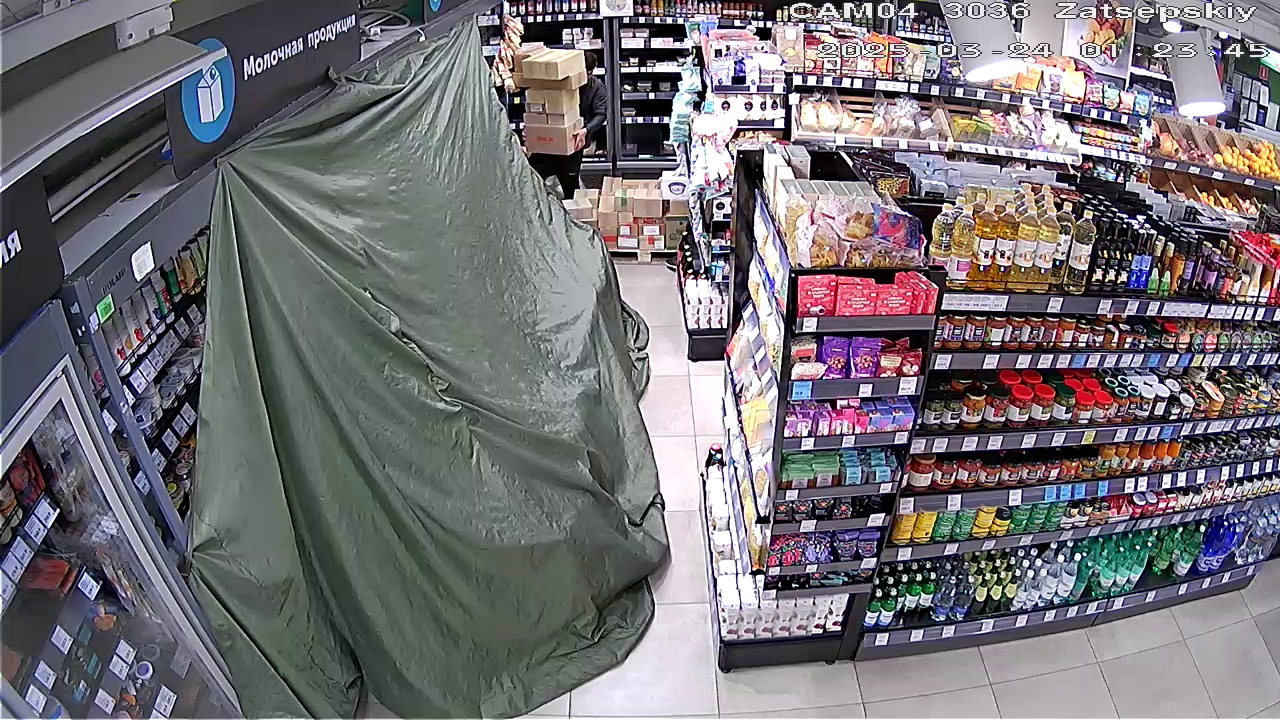dome: (209, 35, 653, 712)
pallet: (565, 171, 683, 256)
